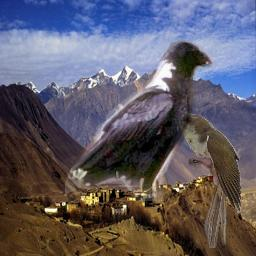Crow: (65, 35, 213, 201)
Cuckoo: (167, 113, 241, 248)
